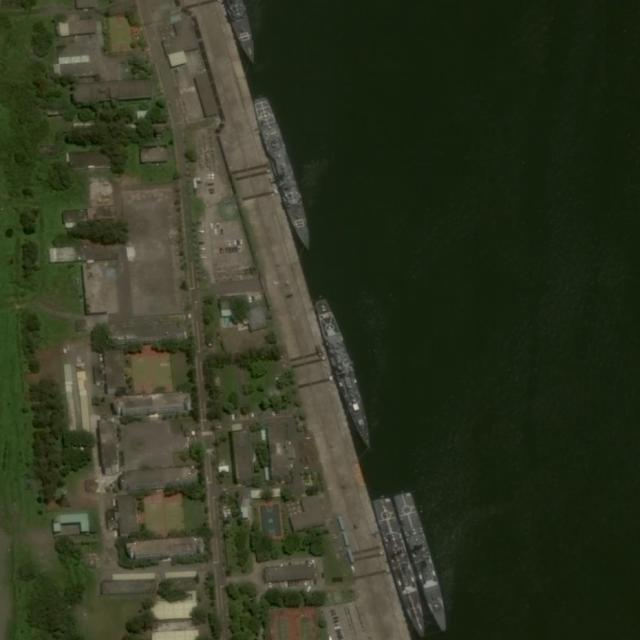Frigate: (251, 92, 317, 254), (313, 295, 378, 456), (372, 494, 431, 640), (394, 490, 453, 634)
